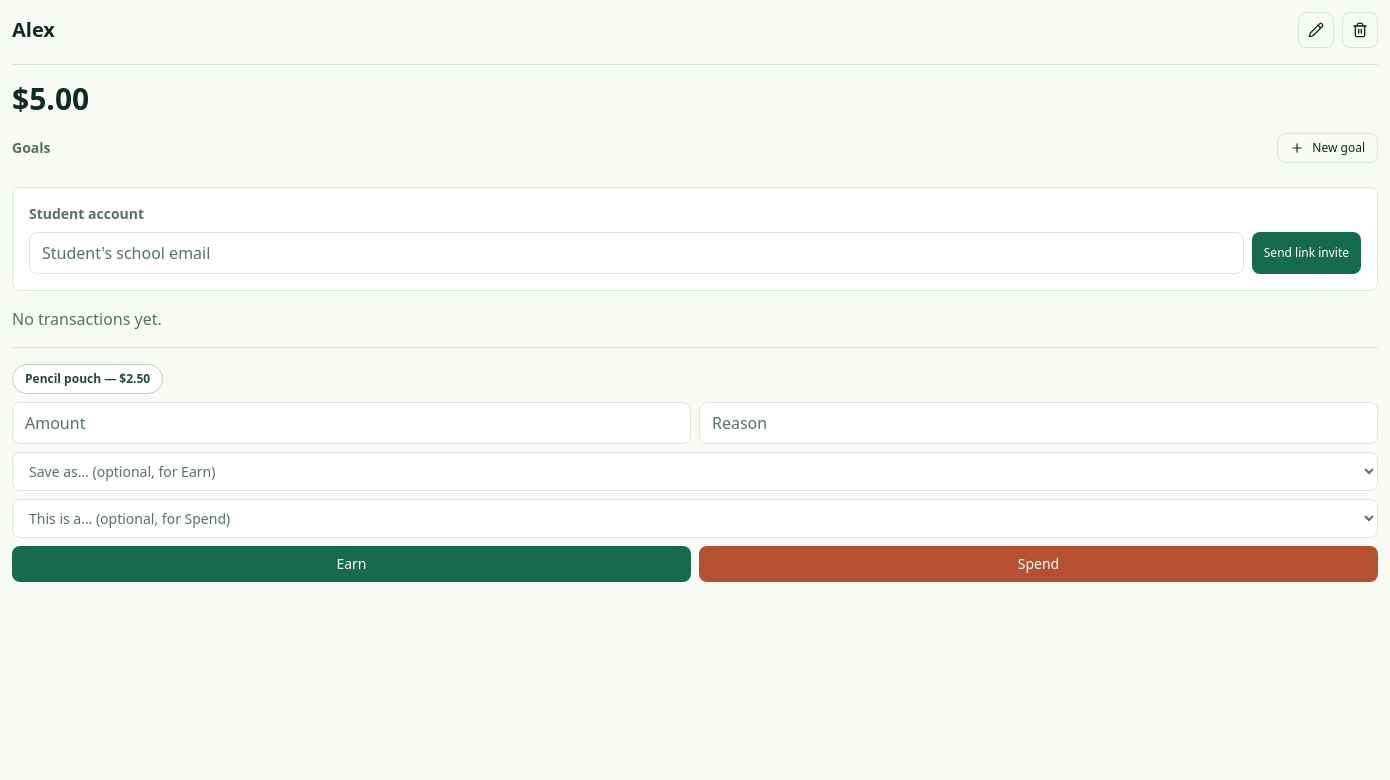
Test case: StudentDetailPane › pre-fills amount and reason from a store item, without submitting a spend
The width and height of the screenshot is (1390, 780).
Step 1. Click the button "Pencil pouch — $2.50" → (88, 379), box [12, 364, 163, 394]
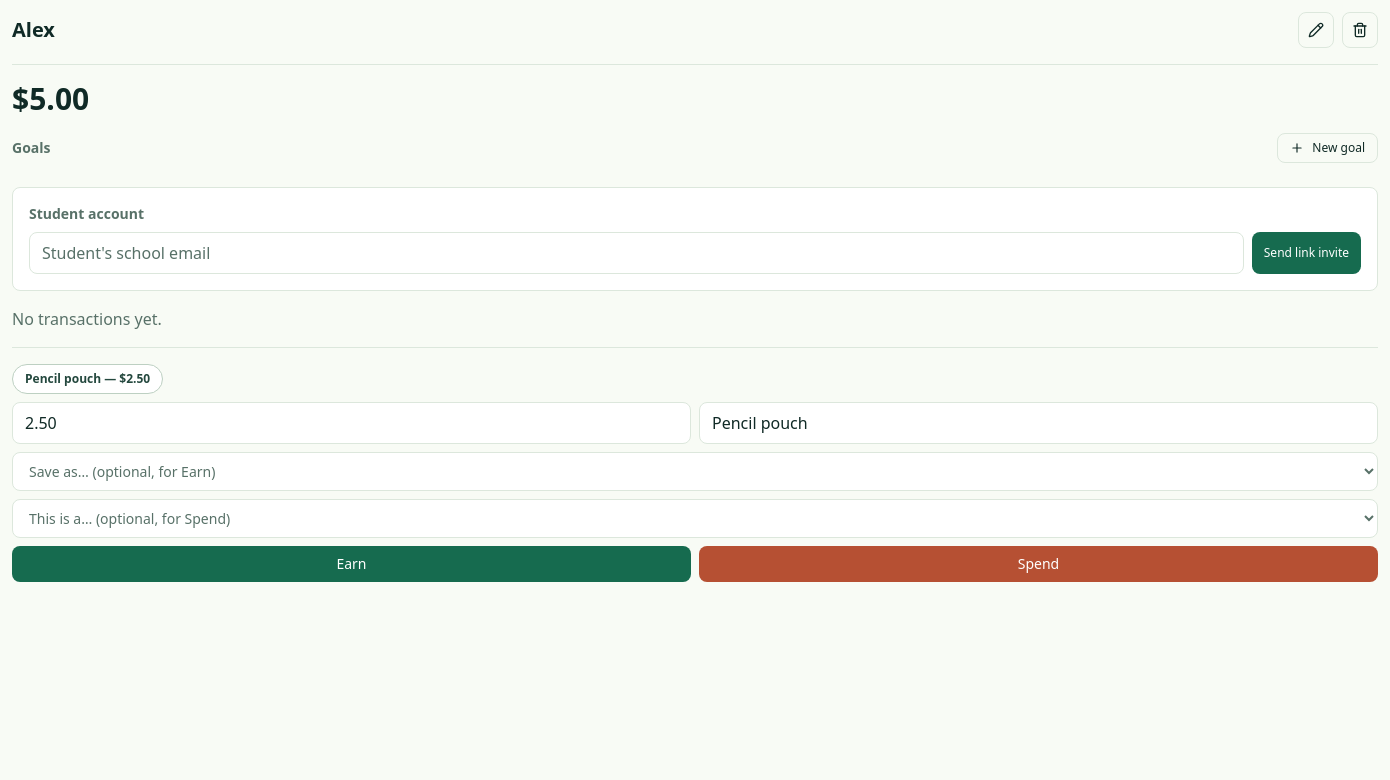
Expected: the 1st field with placeholder "Amount" holds "2.50", [12, 402, 691, 444]
Expected: the 2nd field with placeholder "Reason" holds "Pencil pouch", [699, 402, 1378, 444]
